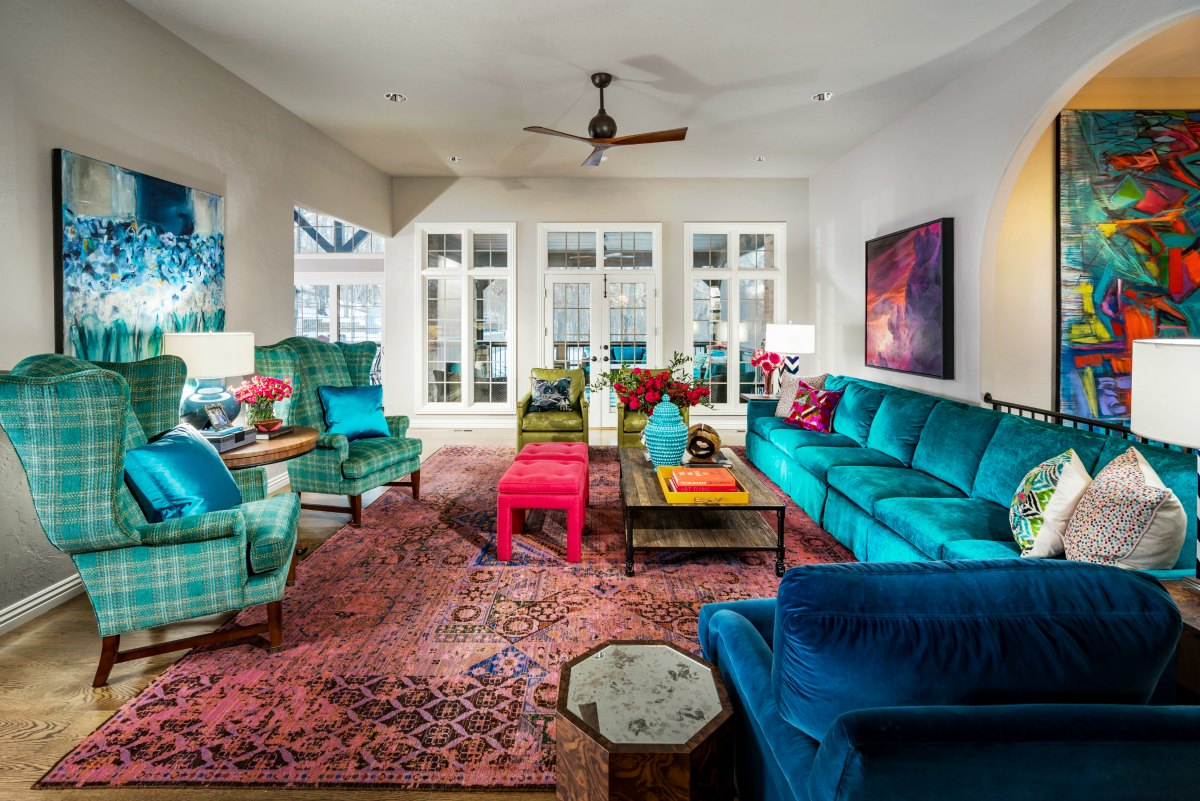biru: (710, 568, 1188, 801), (869, 380, 1063, 570), (131, 438, 245, 514), (321, 389, 393, 437), (646, 399, 687, 467), (183, 379, 233, 424)
coklat: (560, 714, 729, 801)
merah: (503, 440, 585, 558)
orange: (672, 468, 735, 487)
putih: (1128, 339, 1200, 446), (166, 335, 255, 377), (766, 325, 817, 354)
